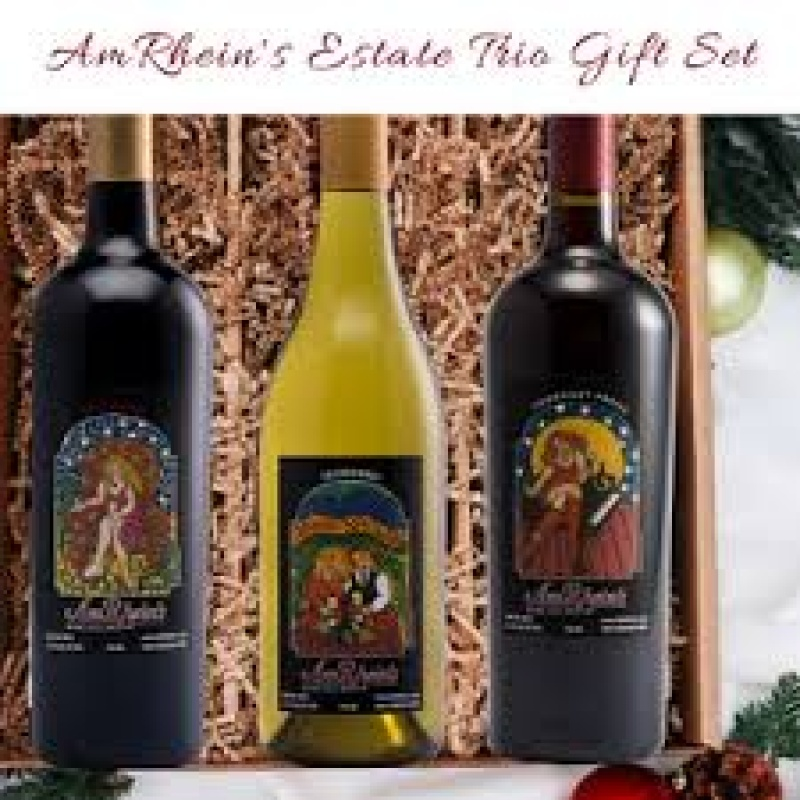wine: (466, 113, 673, 758), (253, 108, 454, 761), (32, 102, 211, 768)
